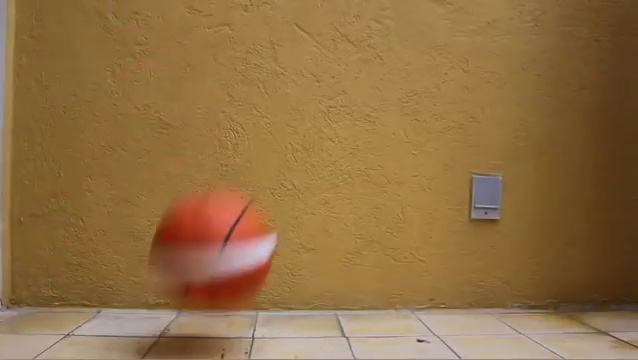ball: (146, 184, 277, 310)
